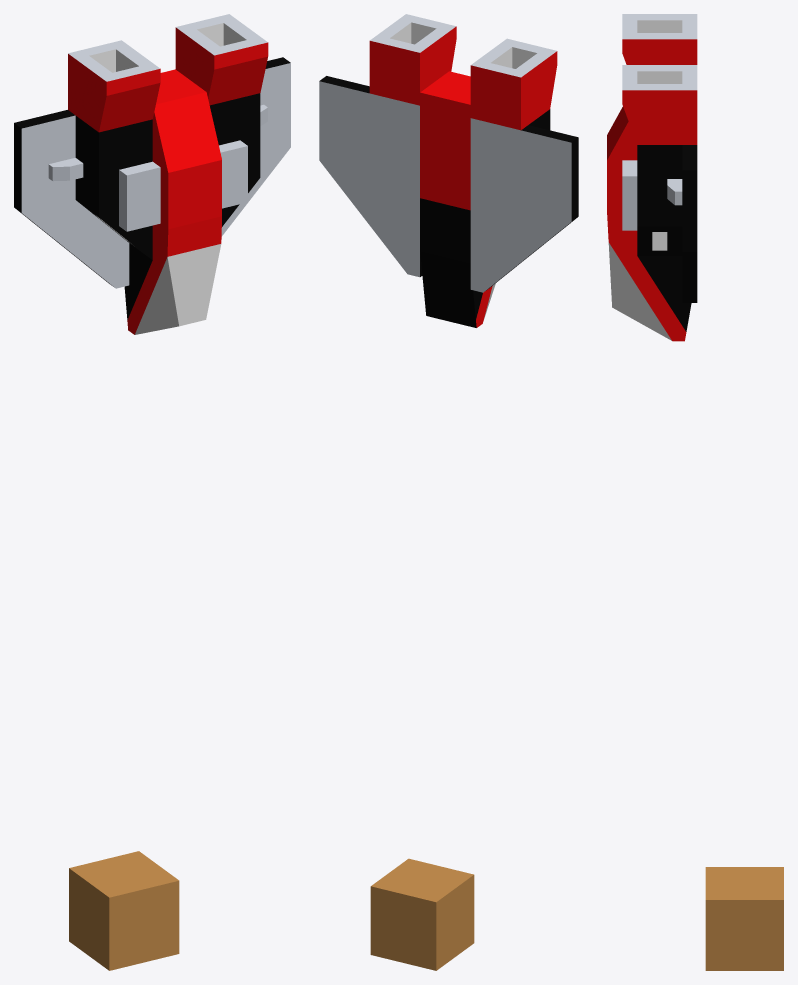
Rendered from floor.obj.
3 views of the same model, side by side, from view 1: azimuth 30°, elevation 25°; view 2: azimuth 150°, elevation 25°; view 3: azimuth 270°, elevation 25° (orthographic). The views are drawn at different scales.
Visible parts, largest first — view 1: craft_speederB.003, floor; view 2: craft_speederB.003, floor; view 3: craft_speederB.003, floor.
Boxes of the visible parts, bbox=[...] form: craft_speederB.003: bbox=[14, 14, 290, 334]; floor: bbox=[69, 851, 179, 970]; craft_speederB.003: bbox=[319, 14, 578, 327]; floor: bbox=[370, 858, 474, 970]; craft_speederB.003: bbox=[607, 14, 697, 341]; floor: bbox=[705, 867, 783, 970].
Size of the model in its own units: 7.69 by 25.43 by 4.51.
